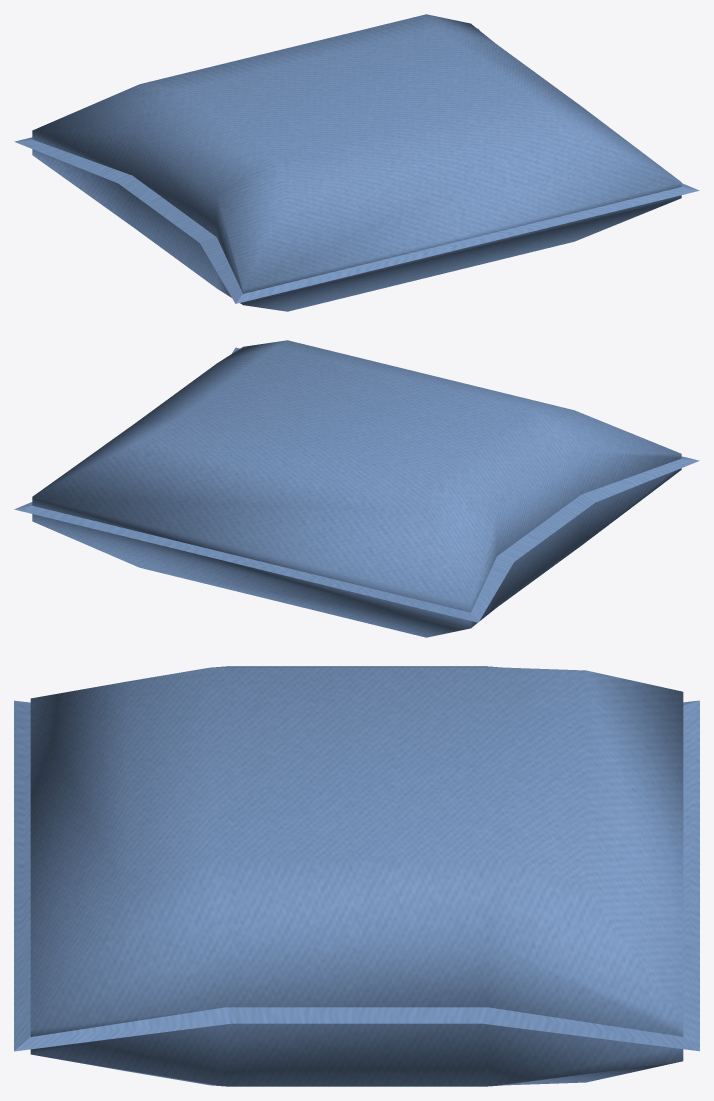
The model's file is T_Pillow_P2.FBX.
3 views of the same model, one above another, from view 1: azimuth 30°, elevation 25°; view 2: azimuth 150°, elevation 25°; view 3: azimuth 270°, elevation 25° (orthographic). The views are drawn at different scales.
Visible parts, largest first — view 1: Throw_Pillow; view 2: Throw_Pillow; view 3: Throw_Pillow.
Boxes of the visible parts, left/top/right/bottom form: Throw_Pillow: left=14, top=14, right=699, bottom=311; Throw_Pillow: left=14, top=340, right=699, bottom=637; Throw_Pillow: left=14, top=666, right=699, bottom=1086.
Size of the model in its own units: 127 by 37.95 by 105.
